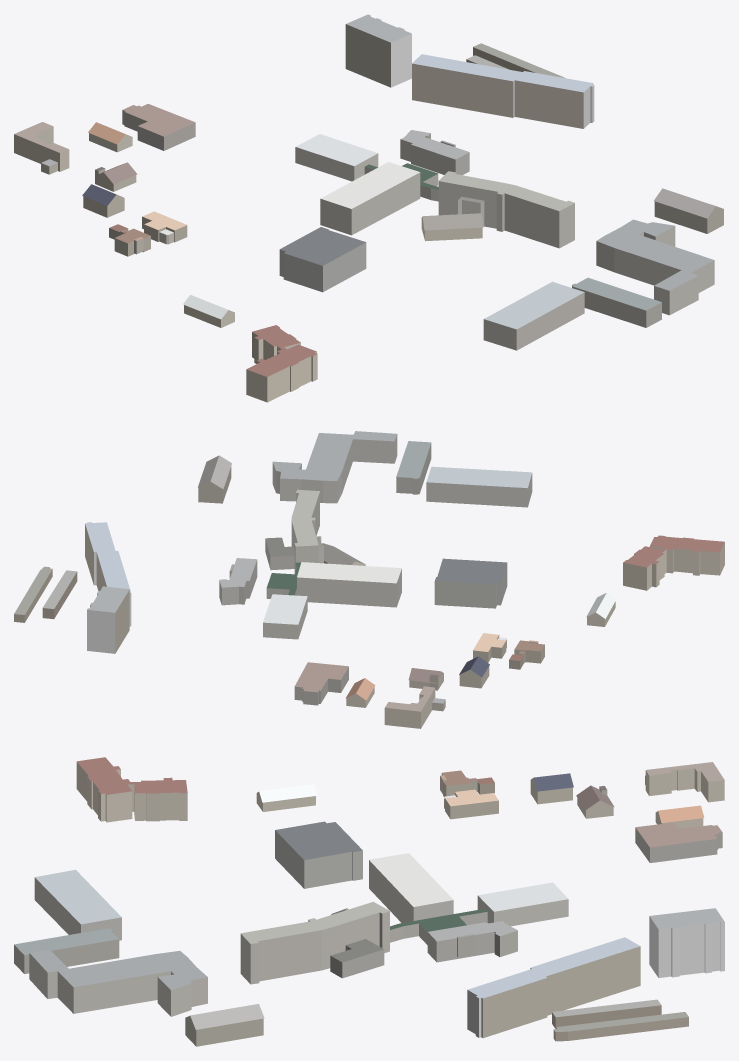
3 views of the same model, one above another, from view 1: azimuth 30°, elevation 25°; view 2: azimuth 150°, elevation 25°; view 3: azimuth 270°, elevation 25° (orthographic). The views are drawn at different scales.
Visible parts, largest first — view 1: tuile; view 2: tuile; view 3: tuile.
Part boxes in pixels (bbox=[...]): tuile: bbox=[14, 14, 723, 402]; tuile: bbox=[14, 431, 724, 728]; tuile: bbox=[14, 757, 724, 1046].
Bounding box in the file's own units: 264 × 34.19 × 282.
